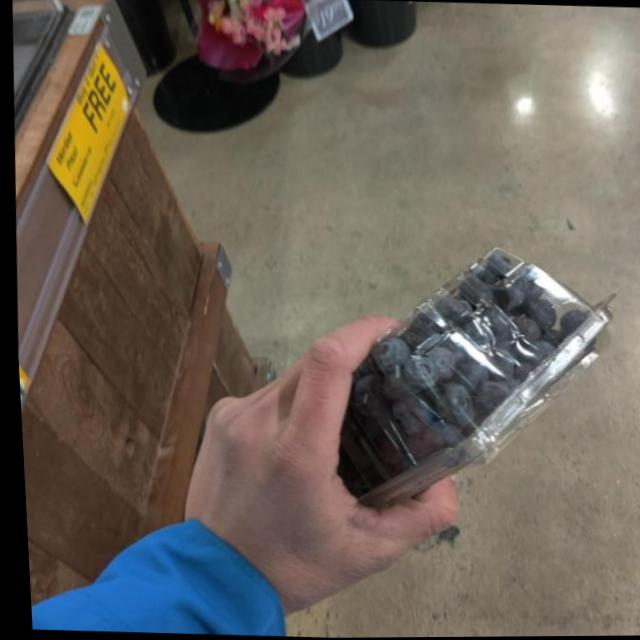Blueberries: (327, 248, 619, 522)
